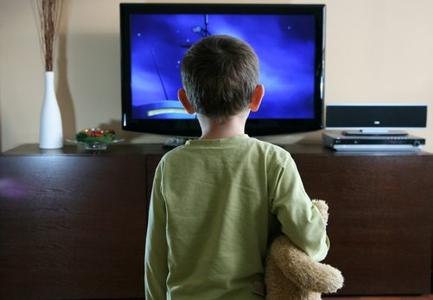person: (146, 35, 329, 300)
